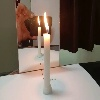fire: (44, 12, 49, 34)
